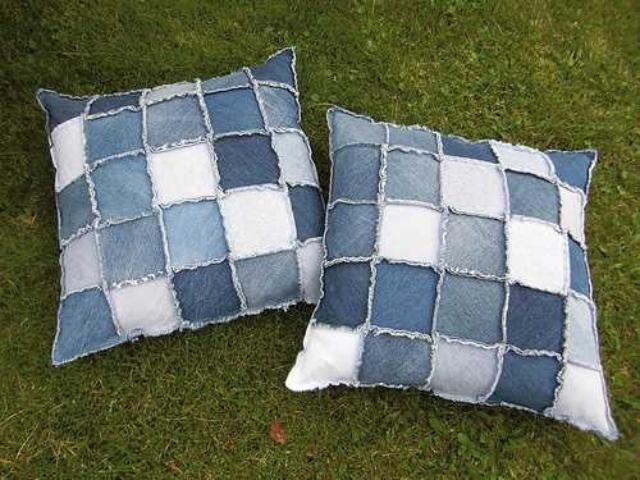pillow: (284, 104, 620, 441), (34, 45, 326, 367)
